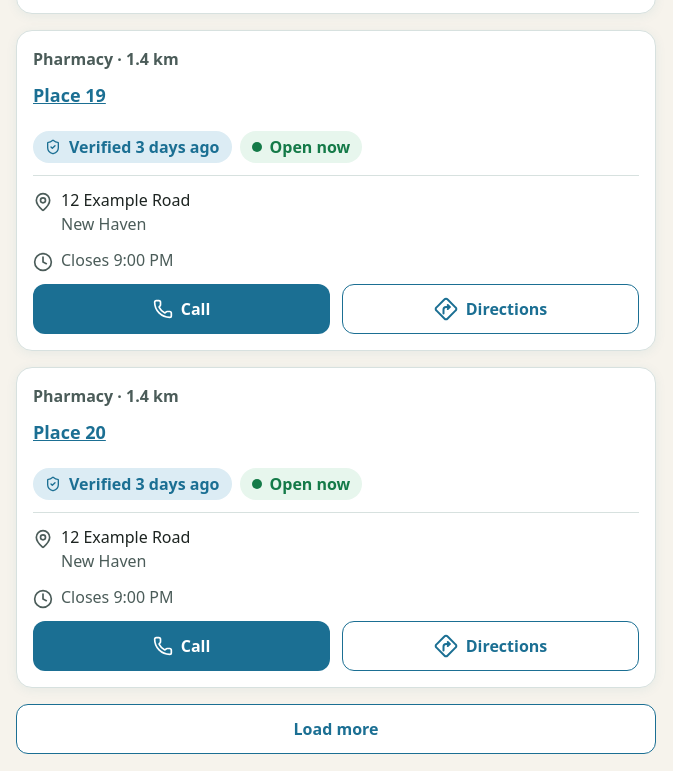
Scenario: the /search page › Load more asks for the next 20 and adds them; the button goes when everything is shown
(page scrolled)
Expected: the link "Place 20" is shown, [33,420,106,444]
Click the button "Load more": (336, 729) [16,704,656,754]
(page scrolled)
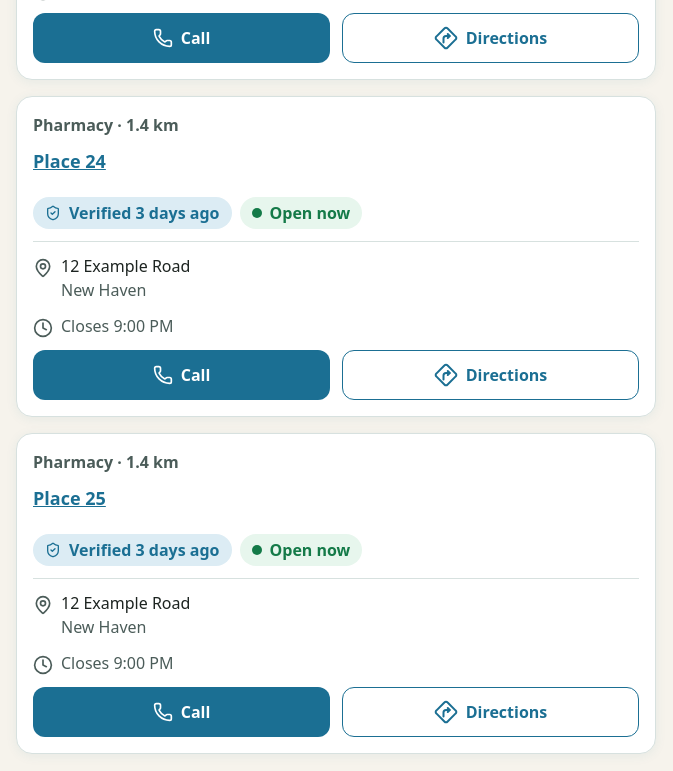
Result: the link "Place 25" is shown at [33,486,106,510]
Result: the button "Load more" is gone
